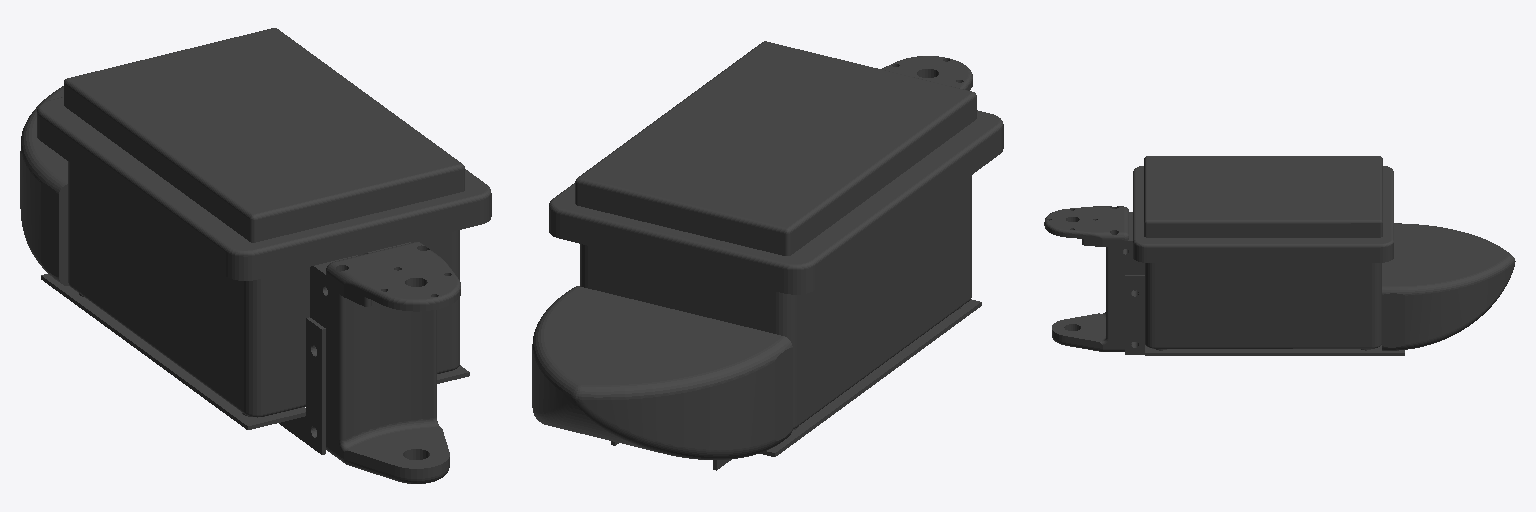
The robot description file, URDF, robot "robotfield":
<?xml version="1.0" ?>
<!-- =================================================================================== -->
<!-- |    This document was autogenerated by xacro from ./robotfield_description/urdf/robotfield.xacro | -->
<!-- |    EDITING THIS FILE BY HAND IS NOT RECOMMENDED                                 | -->
<!-- =================================================================================== -->
<robot name="robotfield">
  <material name="silver_default">
    <color rgba="0.700 0.700 0.700 1.000"/>
  </material>
  <material name="default">
    <color rgba="0.3137254901960784 0.3137254901960784 0.3137254901960784 1.0"/>
  </material>
  <link name="base_link">
    <inertial>
      <origin rpy="0 0 0" xyz="1.6323346901235987e-09 -1.645202298677549e-09 4.9643617313831445"/>
      <mass value="20402.68922276467"/>
      <inertia ixx="1751088.146405" ixy="0.000505" ixz="-2e-06" iyy="1751088.146396" iyz="2e-06" izz="3501567.803427"/>
    </inertial>
    <visual>
      <origin rpy="0 0 0" xyz="0 0 0"/>
      <geometry>
        <mesh filename="package://robotfield_description/meshes/base_link.stl" scale="0.001 0.001 0.001"/>
      </geometry>
      <material name="default"/>
    </visual>
    <collision>
      <origin rpy="0 0 0" xyz="0 0 0"/>
      <geometry>
        <mesh filename="package://robotfield_description/meshes/base_link.stl" scale="0.001 0.001 0.001"/>
      </geometry>
    </collision>
  </link>
</robot>

--- Facts derived from the render (not from the file) ---
Views: 3 orthographic renders of the robot side by side, from view 1: azimuth 30°, elevation 25°; view 2: azimuth 150°, elevation 25°; view 3: azimuth 270°, elevation 25°.
Model robotfield with 1 links and 0 joints (none), rooted at base_link, posed every joint at zero.
Links seen in each view (by area): view 1: base_link; view 2: base_link; view 3: base_link.
Boxes of the visible links, left/top/right/bottom form: base_link: left=20, top=28, right=491, bottom=483; base_link: left=532, top=41, right=1003, bottom=470; base_link: left=1044, top=156, right=1515, bottom=355.
Size in the robot's own frame: 0.1351 by 0.3335 by 0.118 metres.
1 mesh visuals loaded from 1 distinct referenced files (1 binary STL).